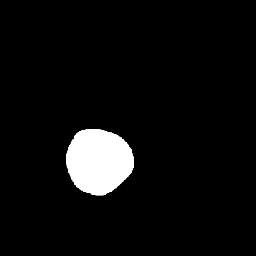mass: (70, 129, 129, 193)
